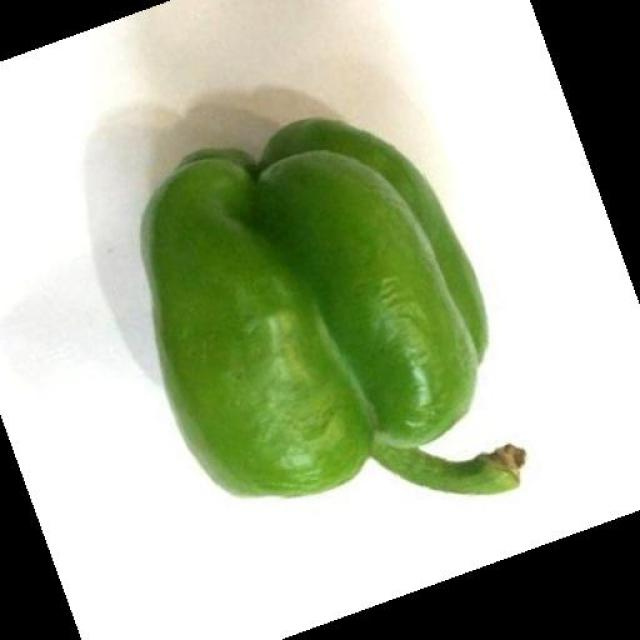Fresh_Capsicum: (121, 101, 519, 532)
